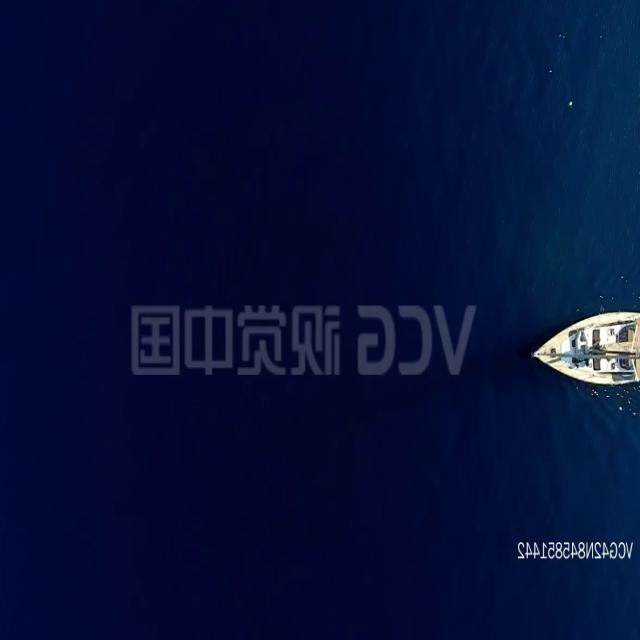sailboat: (532, 304, 640, 389)
